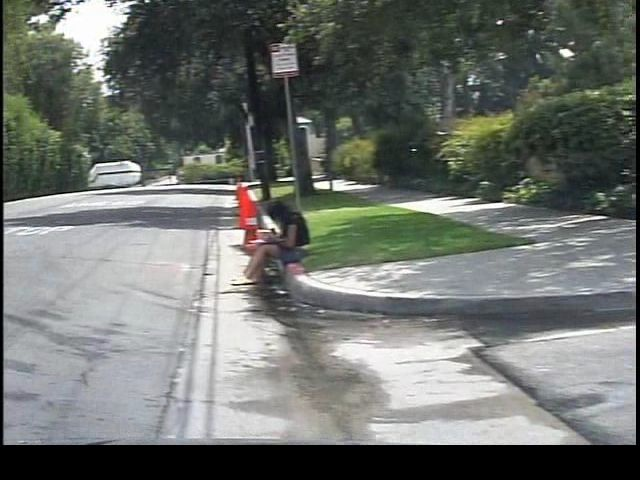person: (222, 195, 310, 288)
